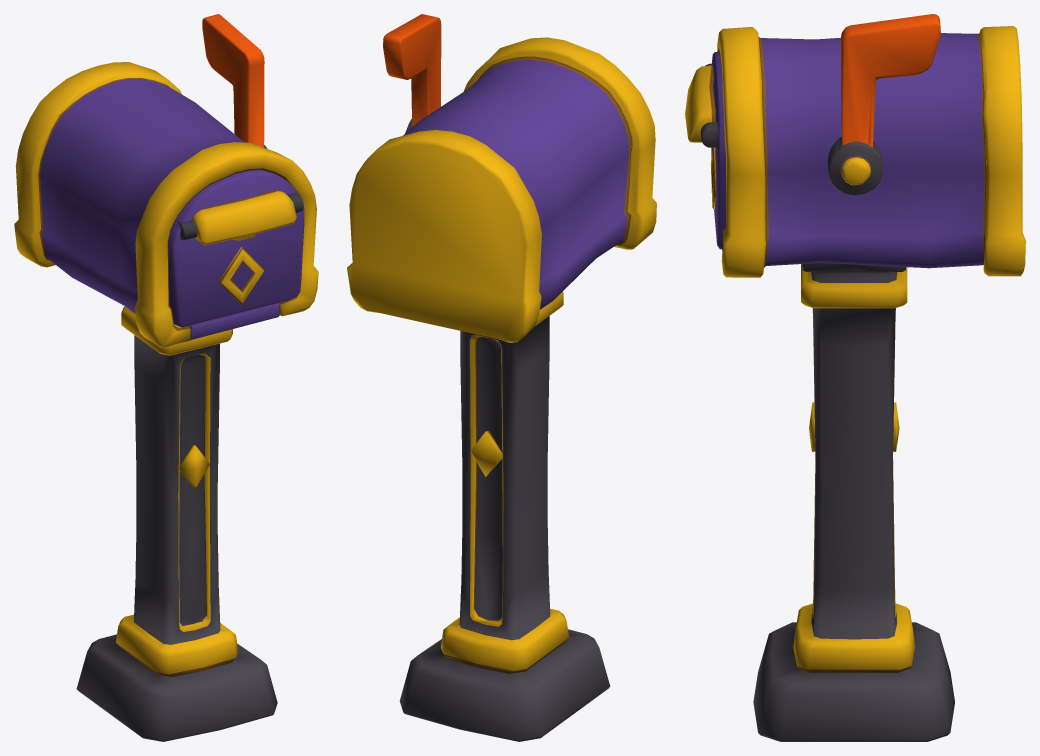
The model's file is mailbox.glb.
The picture shows the model from 3 angles, left to right: view 1: azimuth 30°, elevation 25°; view 2: azimuth 150°, elevation 25°; view 3: azimuth 270°, elevation 25°; orthographic projection. The views are drawn at different scales.
Visible parts, largest first — view 1: mailbox_flat; view 2: mailbox_flat; view 3: mailbox_flat.
Part boxes in pixels (box(x1,y1,x2,y2)): mailbox_flat: box(14, 14, 318, 741); mailbox_flat: box(347, 14, 656, 741); mailbox_flat: box(685, 14, 1025, 741).
Size of the model in its own units: 0.3027 by 0.9995 by 0.4251.
